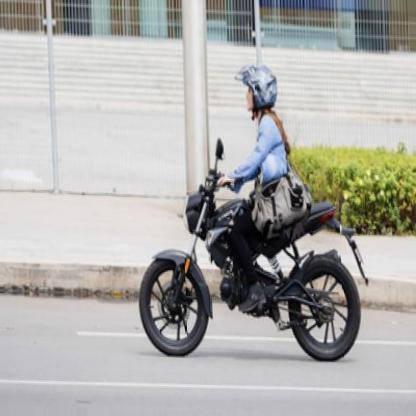with helmet: (234, 62, 277, 113)
